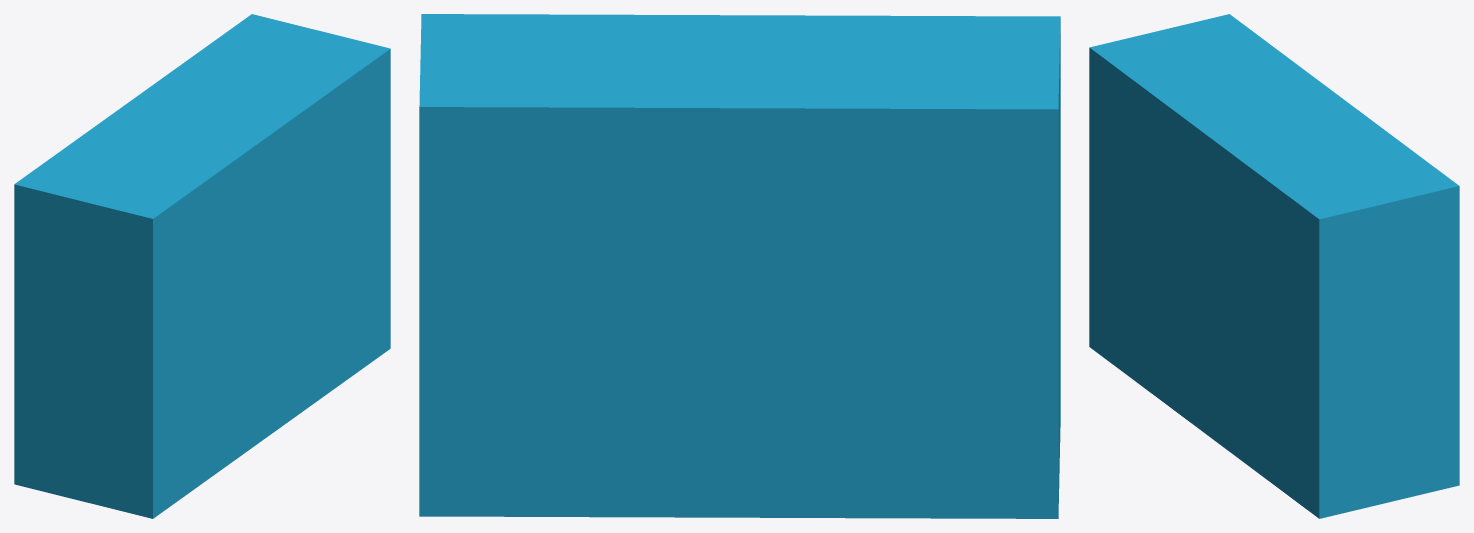
3 views of the same model, side by side, from view 1: azimuth 30°, elevation 25°; view 2: azimuth 150°, elevation 25°; view 3: azimuth 270°, elevation 25° (orthographic). The views are drawn at different scales.
Parts seen in each view (by area): view 1: Visual_Cube; view 2: Visual_Cube; view 3: Visual_Cube.
Part boxes in pixels (box(x1,y1,x2,y2)): Visual_Cube: box(14, 14, 390, 518); Visual_Cube: box(419, 14, 1060, 518); Visual_Cube: box(1089, 14, 1459, 518).
Size of the model in its own units: 109 by 74.44 by 83.36.
